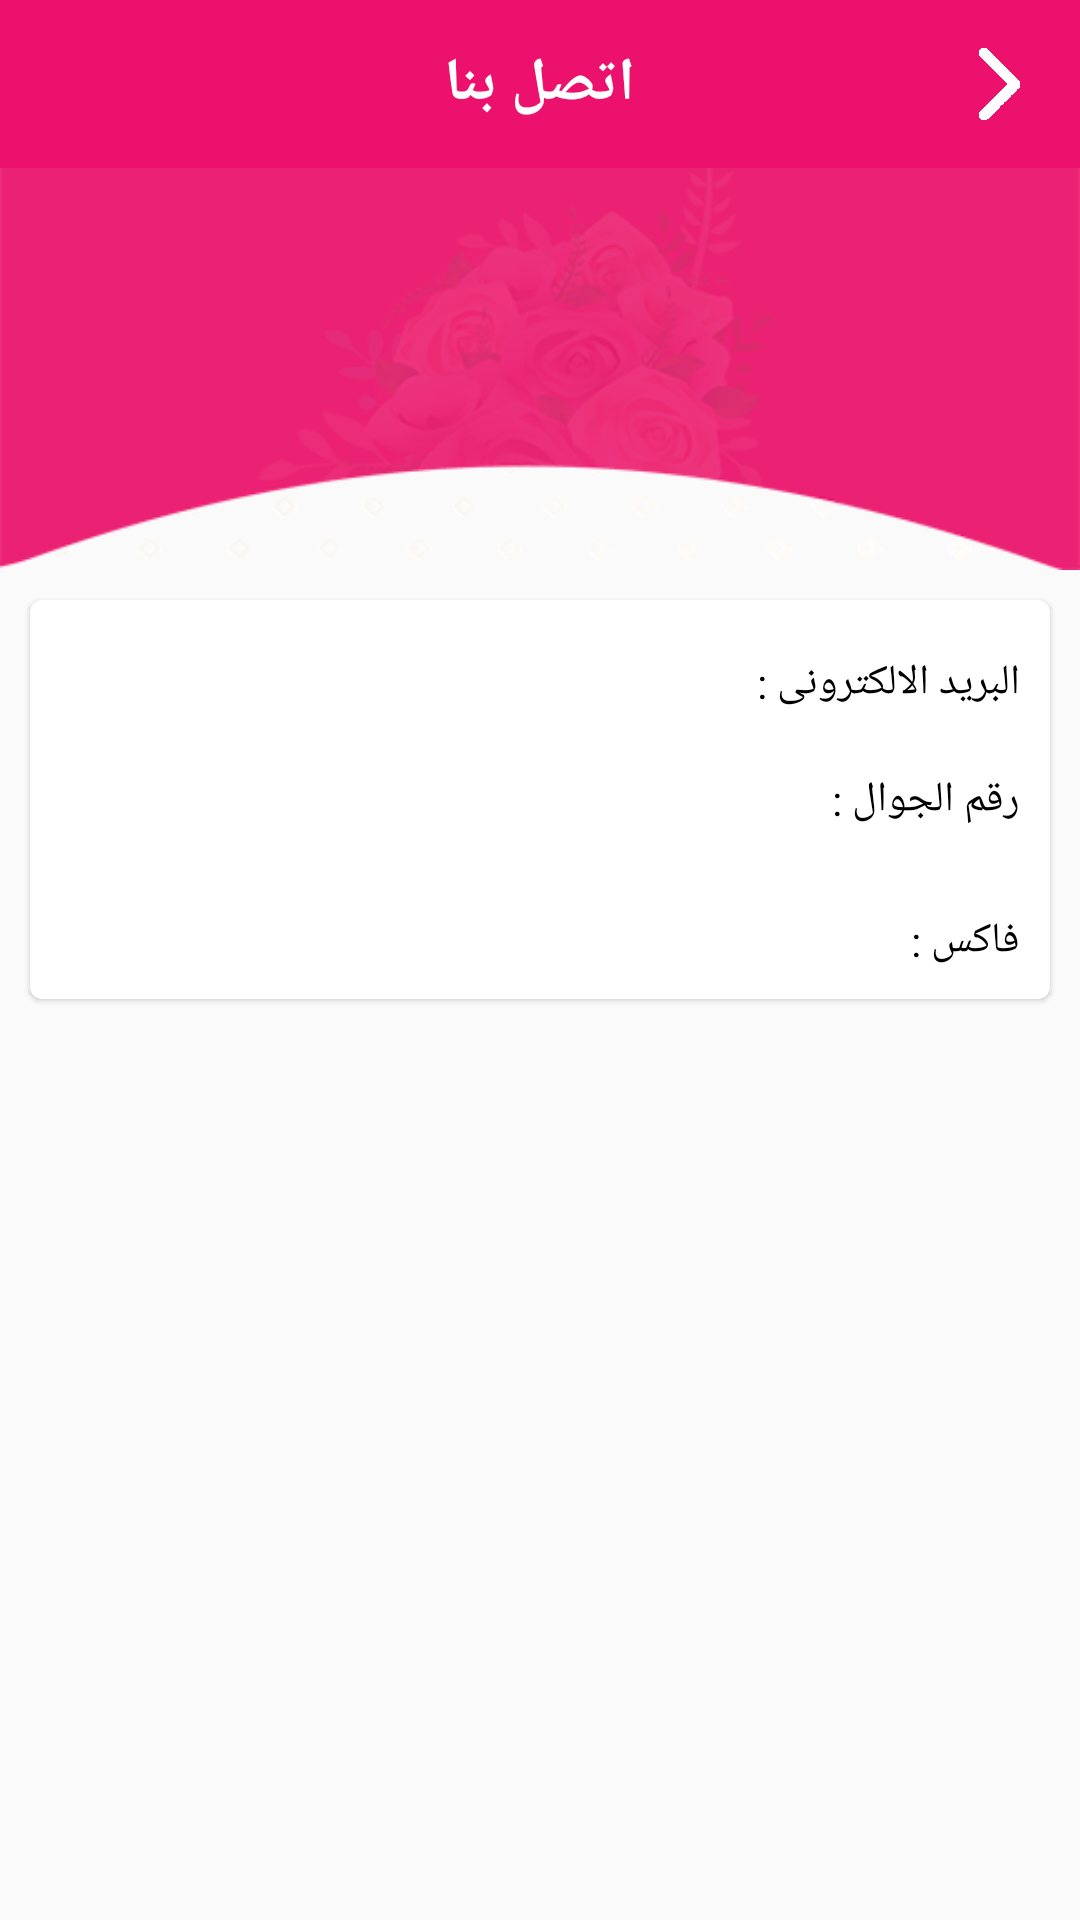

Screen size 1080w x 1920h. Icon name, then its box in pixels as (x1, y1, x2, y2):
arwo: (979, 48, 1020, 120)
